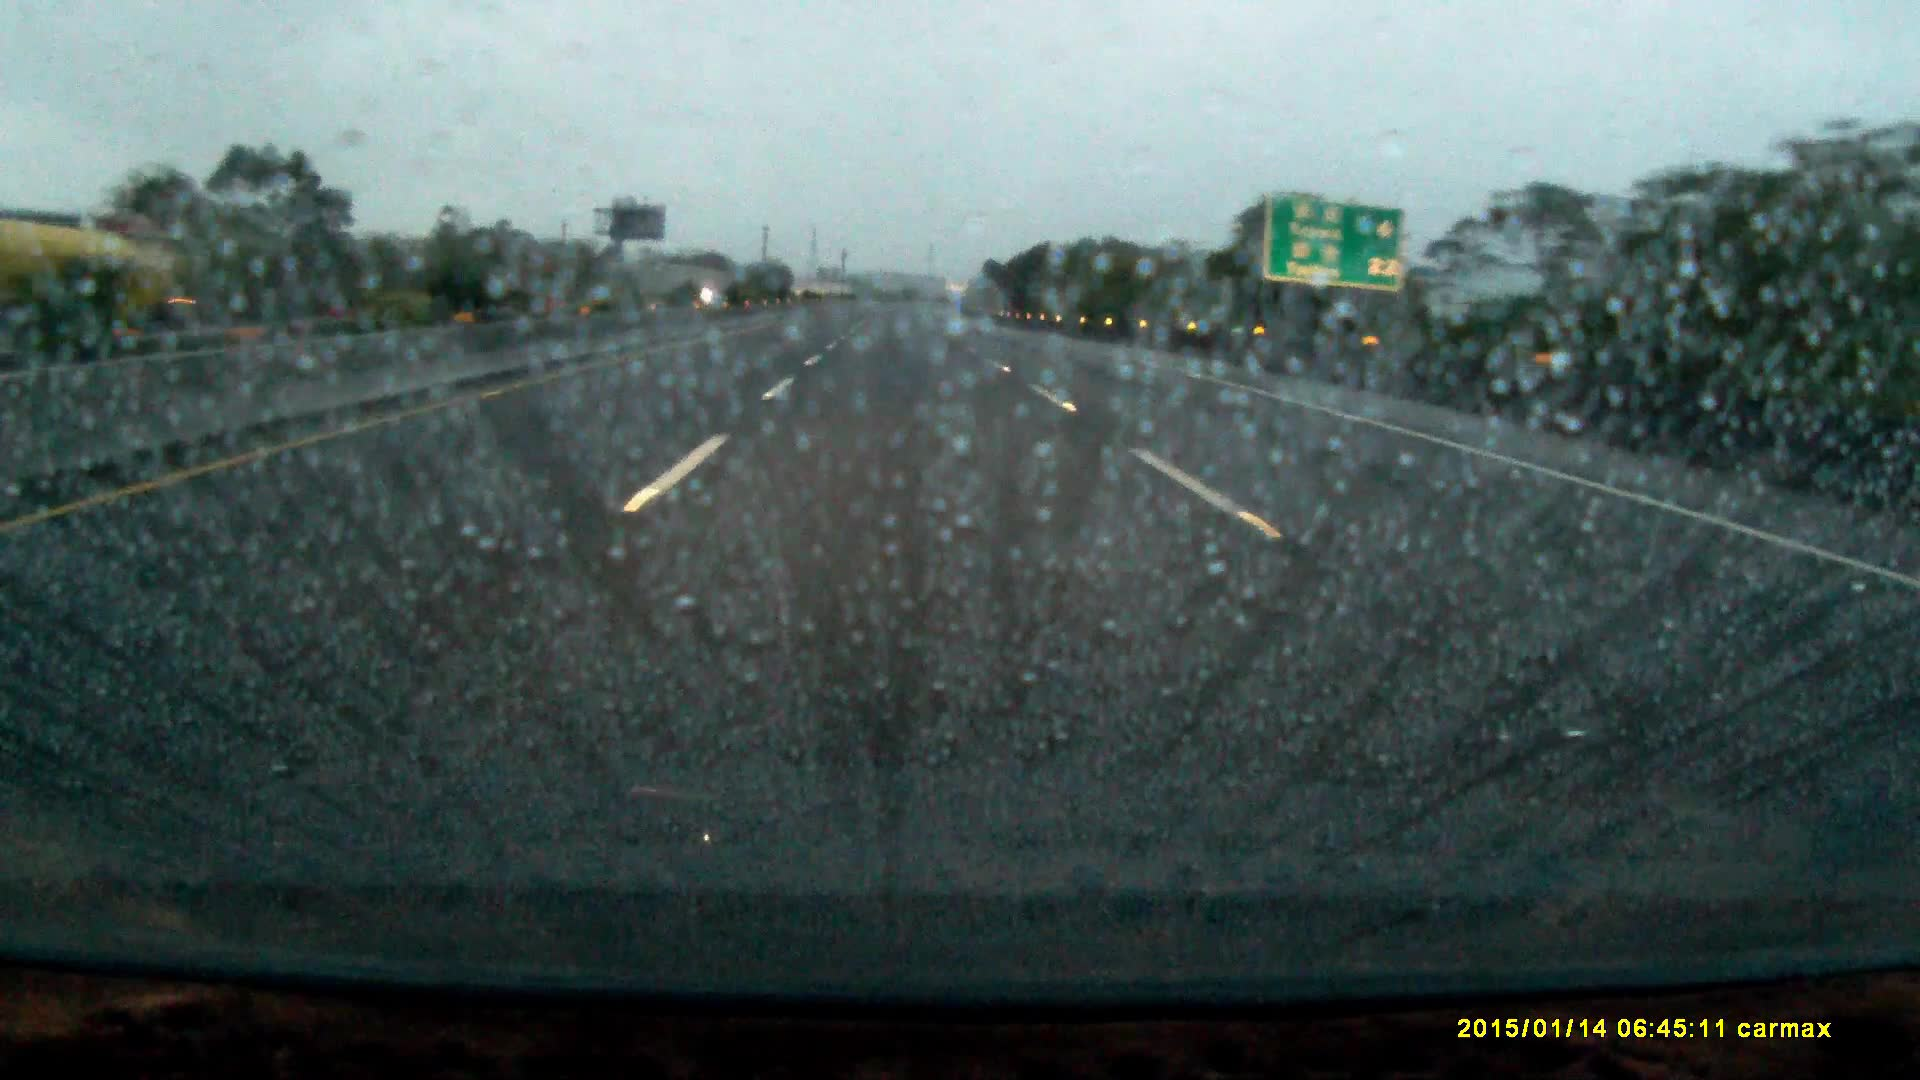vehicle: (13, 232, 170, 340)
